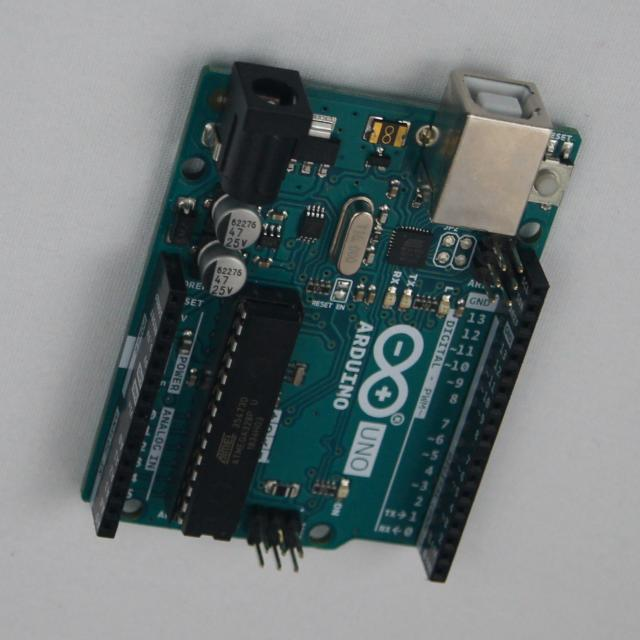Arduino Uno -Green-: (82, 63, 581, 581)
